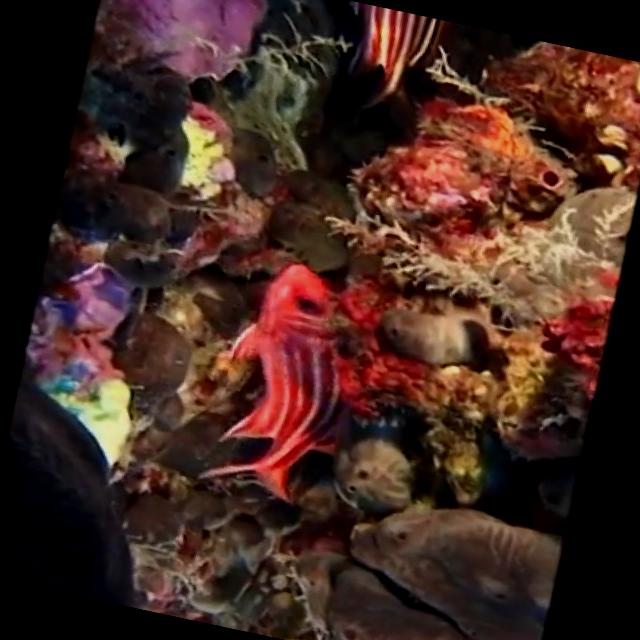Asker Baligi: (192, 249, 378, 512)
